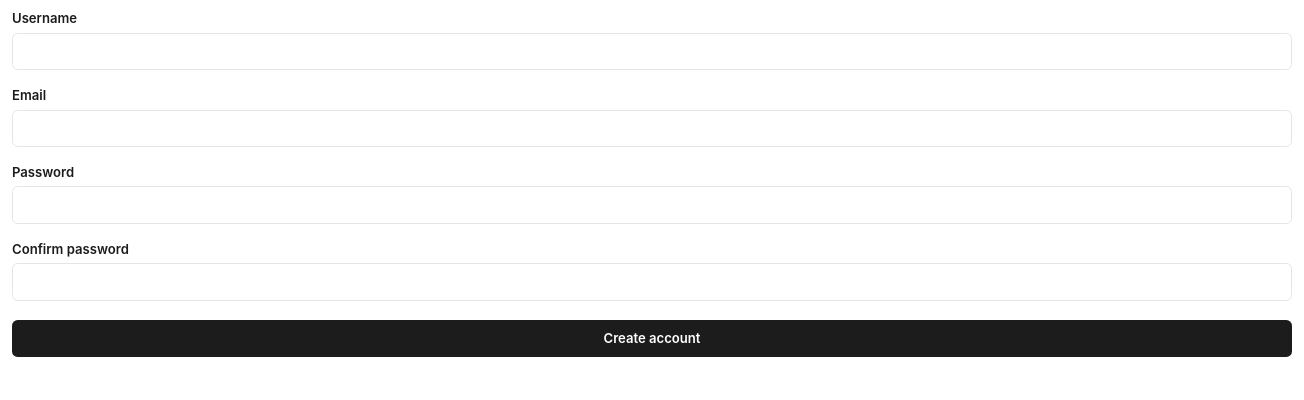
RegisterForm › should reject a short password
In the field labelled "Username": (652, 51) [12,33,1292,70], type "user"
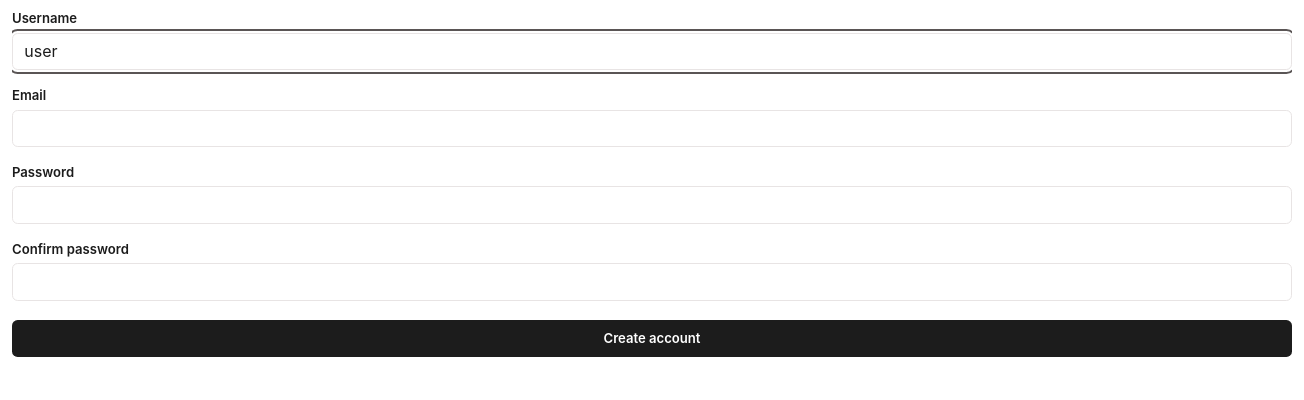
In the field labelled "Email": (652, 128) [12,110,1292,147], type "user@example.com"
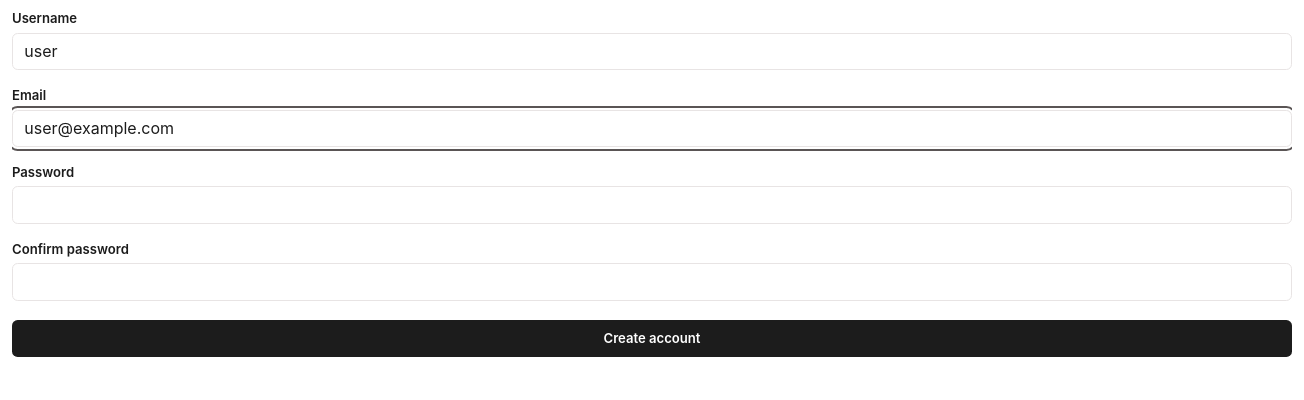
In the password field labelled "Password": (652, 205) [12,186,1292,224], type "short"
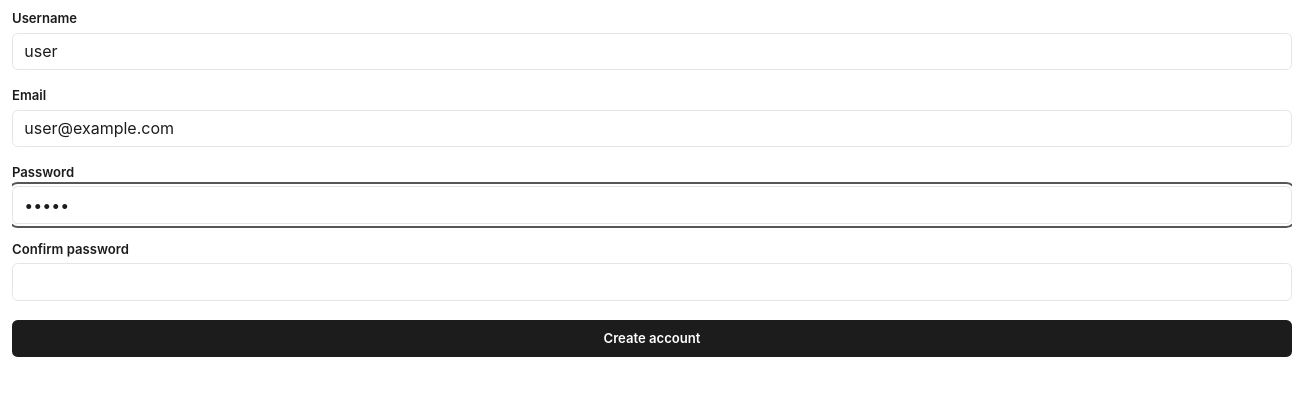
In the password field labelled "Confirm password": (652, 282) [12,263,1292,301], type "short"
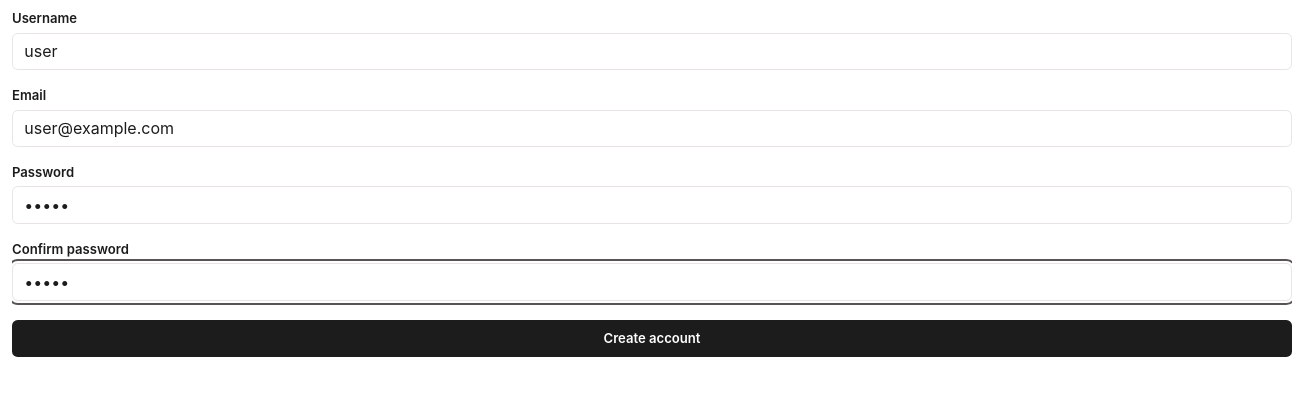
Click the button "Create account": (652, 338) [12,320,1292,357]
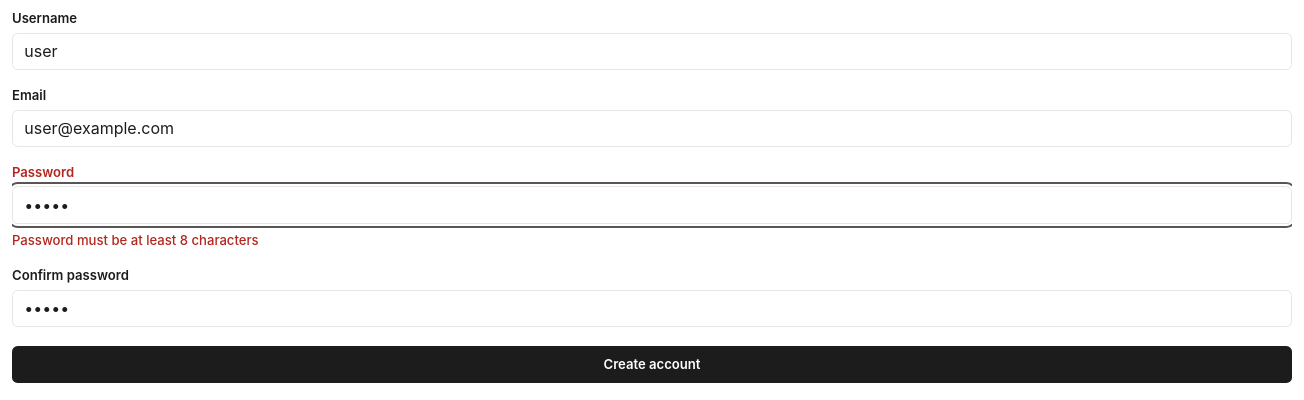
Now the text "Password must be at least 8 characters" is shown, box [12,232,259,248]
